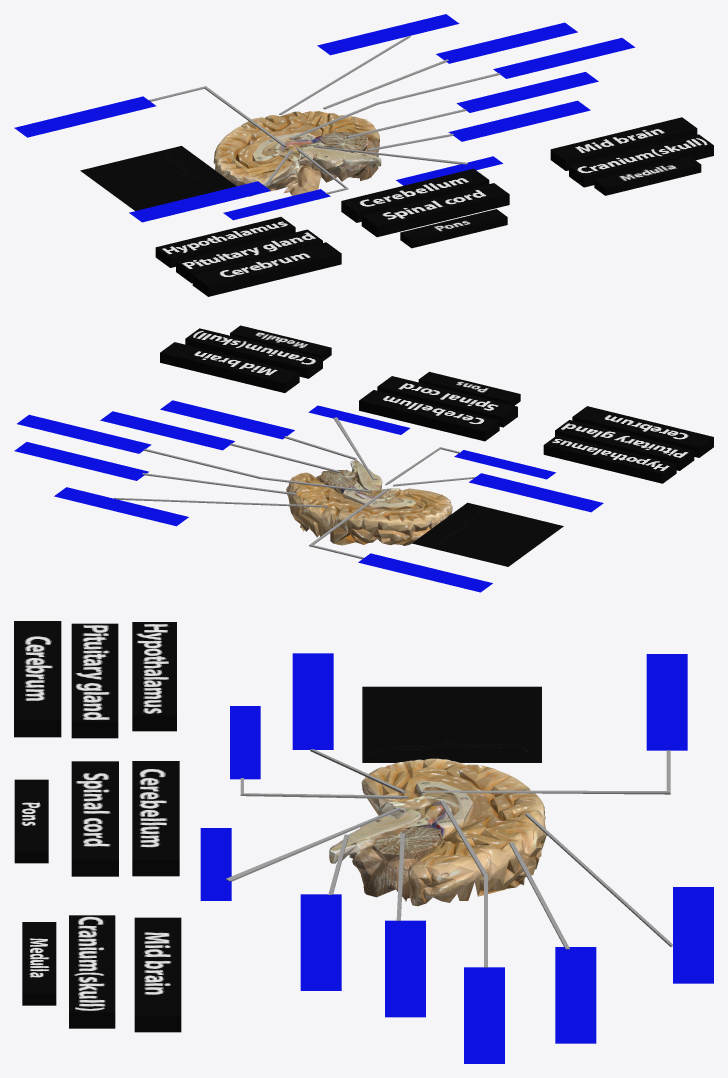
File: brain parts (1).fbx
3 renders of one model, top to bottom at view 1: azimuth 30°, elevation 25°; view 2: azimuth 150°, elevation 25°; view 3: azimuth 270°, elevation 25°, orthographic. The views are drawn at different scales.
Parts seen in each view (by area): view 1: brain, cerebrum, spinal_cord, mid_brain, crainum__skull_, cerebellum, hypothalamus, pituitary_gland, pons, medulla; view 2: brain, cerebellum, mid_brain, hypothalamus, crainum__skull_, spinal_cord, cerebrum, pituitary_gland, pons, medulla; view 3: brain, cerebrum, cerebellum, spinal_cord, mid_brain, pituitary_gland, crainum__skull_, hypothalamus, pons, medulla.
Boxes of the visible parts, bbox=[...] form: brain: bbox=[14, 14, 635, 222]; cerebrum: bbox=[192, 242, 341, 296]; spinal_cord: bbox=[361, 183, 509, 237]; mid_brain: bbox=[550, 117, 697, 170]; crainum__skull_: bbox=[569, 134, 713, 187]; cerebellum: bbox=[341, 168, 489, 222]; hypothalamus: bbox=[155, 217, 295, 267]; pituitary_gland: bbox=[176, 229, 322, 283]; pons: bbox=[400, 209, 507, 248]; medulla: bbox=[594, 156, 701, 195]; brain: bbox=[14, 400, 603, 592]; cerebellum: bbox=[359, 390, 499, 441]; mid_brain: bbox=[160, 342, 299, 392]; hypothalamus: bbox=[543, 435, 676, 483]; crainum__skull_: bbox=[185, 328, 322, 378]; spinal_cord: bbox=[377, 376, 517, 427]; cerebrum: bbox=[572, 406, 713, 457]; pituitary_gland: bbox=[555, 420, 694, 470]; pons: bbox=[418, 371, 520, 405]; medulla: bbox=[230, 325, 331, 360]; brain: bbox=[200, 653, 713, 1063]; cerebrum: bbox=[14, 621, 61, 737]; cerebellum: bbox=[132, 761, 179, 876]; spinal_cord: bbox=[71, 761, 118, 876]; mid_brain: bbox=[134, 917, 181, 1032]; pituitary_gland: bbox=[71, 623, 118, 738]; crainum__skull_: bbox=[69, 915, 115, 1028]; hypothalamus: bbox=[132, 622, 176, 731]; pons: bbox=[14, 779, 48, 863]; medulla: bbox=[22, 922, 56, 1005].
Bounding box in the file's own units: 564 × 41.17 × 389.
Materials: 5 (4 with a texture image).
